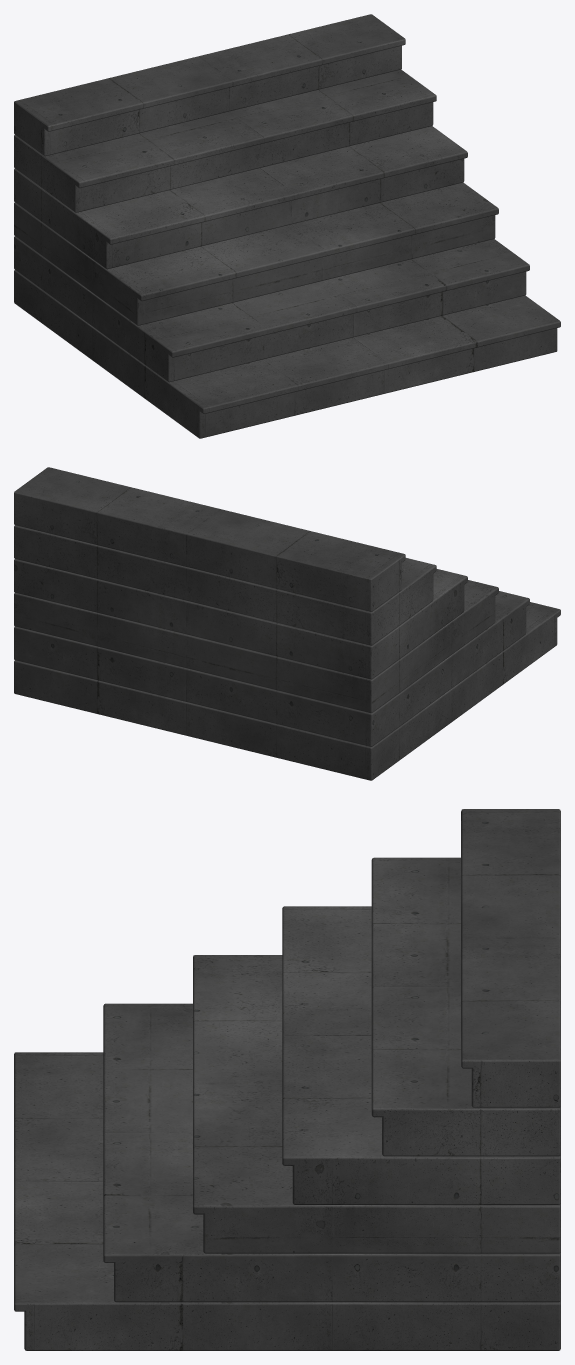
The model's file is Stairs_Short_Narrow.gltf.
The picture shows the model from 3 angles, top to bottom: view 1: azimuth 30°, elevation 25°; view 2: azimuth 150°, elevation 25°; view 3: azimuth 270°, elevation 25°; orthographic projection. The views are drawn at different scales.
Visible parts, largest first — view 1: Stairs_Short_Narrow_Body; view 2: Stairs_Short_Narrow_Body; view 3: Stairs_Short_Narrow_Body.
Part boxes in pixels (x1,y1,x2,y2): Stairs_Short_Narrow_Body: (14, 14, 560, 438); Stairs_Short_Narrow_Body: (14, 467, 560, 780); Stairs_Short_Narrow_Body: (14, 809, 560, 1350).
Size of what is drawn, in the model's own units: 2 by 1.08 by 1.84.
1 material, 1 textured.
